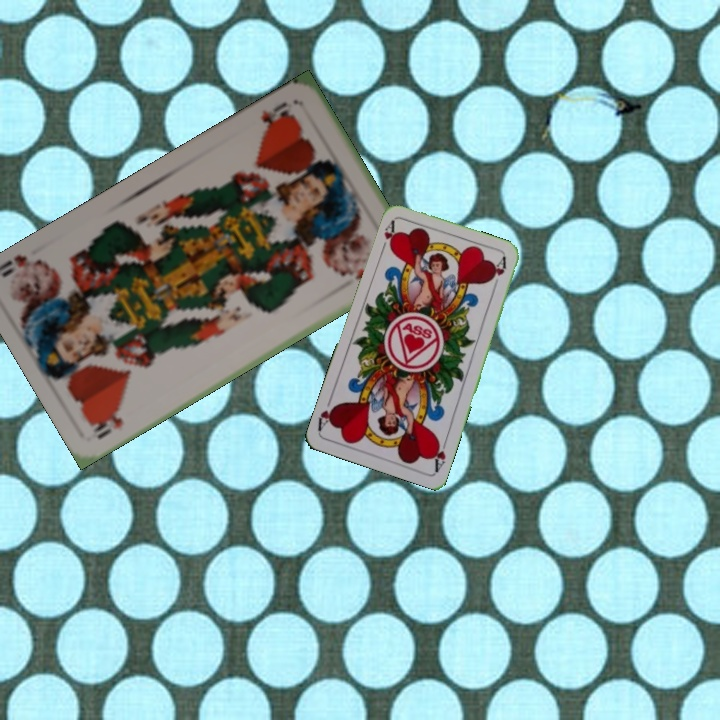HA: (428, 434, 450, 474), (377, 217, 398, 256)
HO: (257, 97, 296, 136), (86, 405, 126, 442)
